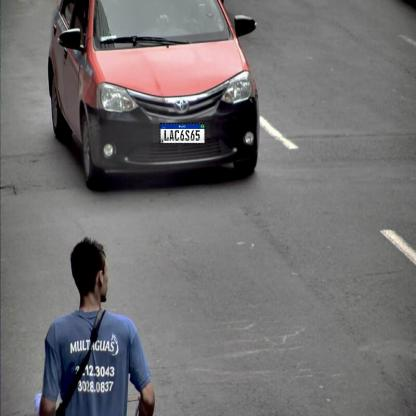PlacaM: (160, 123, 206, 144)
